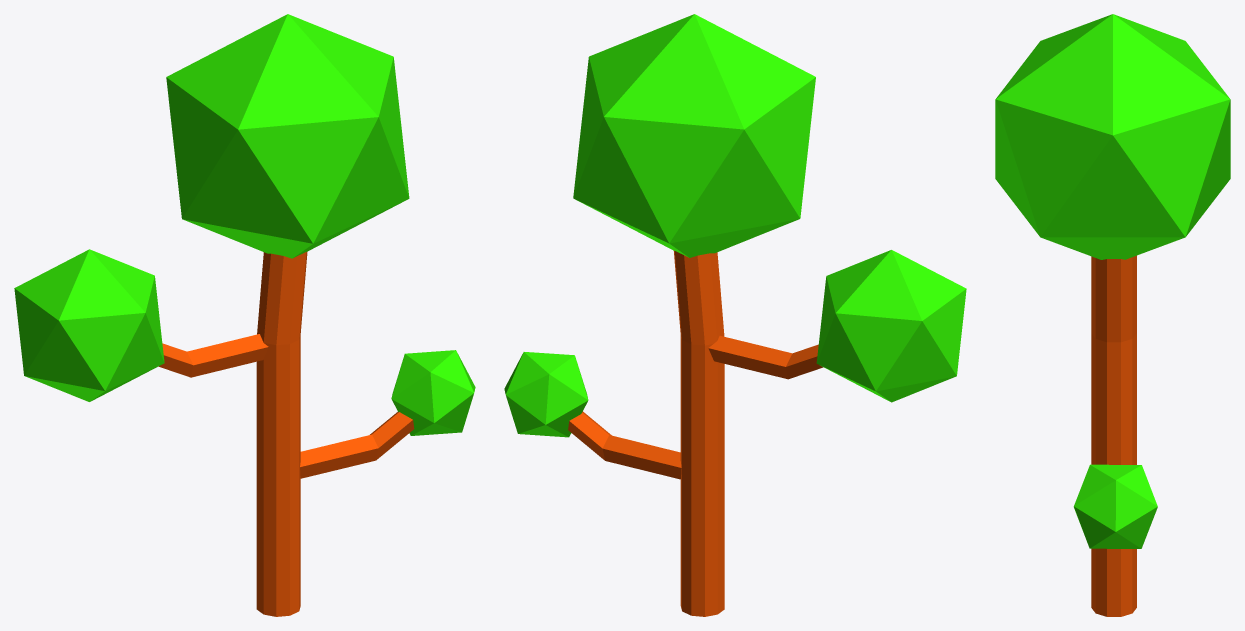
File: Tree_00.fbx
3 renders of one model, left to right at view 1: azimuth 30°, elevation 25°; view 2: azimuth 150°, elevation 25°; view 3: azimuth 270°, elevation 25°, orthographic.
Parts seen in each view (by area): view 1: Icosphere, Icosphere.001, Body, Icosphere.002, Cylinder.001, Cylinder; view 2: Icosphere, Icosphere.001, Body, Icosphere.002, Cylinder.001, Cylinder; view 3: Icosphere, Body, Icosphere.002.
Boxes of the visible parts, x1=… form: Icosphere: x1=166, y1=14, x2=409, y2=258; Icosphere.001: x1=14, y1=249, x2=164, y2=401; Body: x1=256, y1=251, x2=307, y2=616; Icosphere.002: x1=391, y1=350, x2=475, y2=435; Cylinder.001: x1=300, y1=412, x2=414, y2=478; Cylinder: x1=158, y1=334, x2=268, y2=377; Icosphere: x1=573, y1=14, x2=815, y2=257; Icosphere.001: x1=816, y1=250, x2=966, y2=402; Body: x1=674, y1=251, x2=724, y2=616; Icosphere.002: x1=504, y1=352, x2=588, y2=437; Cylinder.001: x1=568, y1=411, x2=681, y2=479; Cylinder: x1=708, y1=335, x2=823, y2=379; Icosphere: x1=995, y1=14, x2=1230, y2=259; Body: x1=1091, y1=255, x2=1136, y2=616; Icosphere.002: x1=1073, y1=464, x2=1157, y2=548.
Size of the model in its own units: 2322 by 2903 by 1034.
